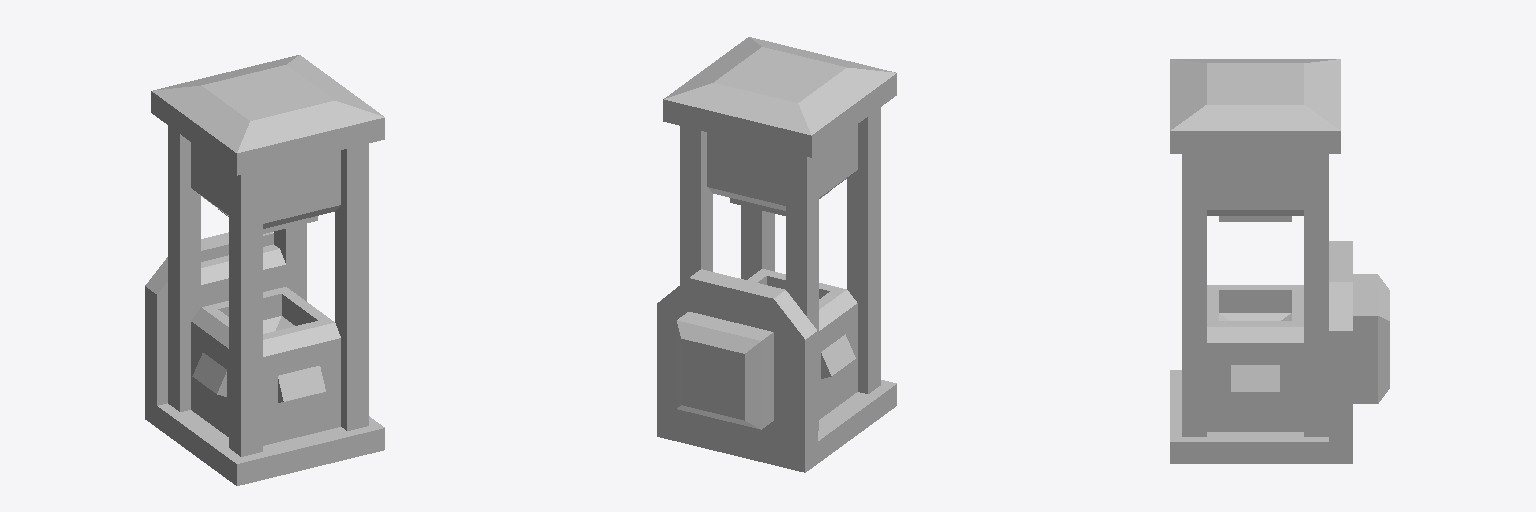
The model's file is actuator_earth_inventory.obj.
3 views of the same model, side by side, from view 1: azimuth 30°, elevation 25°; view 2: azimuth 150°, elevation 25°; view 3: azimuth 270°, elevation 25° (orthographic).
Visible parts, largest first — view 1: QUAKE_REFINERY_BODY_Cube.021; view 2: QUAKE_REFINERY_BODY_Cube.021; view 3: QUAKE_REFINERY_BODY_Cube.021.
Boxes of the visible parts, x1,y1,x2,y2 form: QUAKE_REFINERY_BODY_Cube.021: [145, 55, 384, 485]; QUAKE_REFINERY_BODY_Cube.021: [657, 37, 896, 472]; QUAKE_REFINERY_BODY_Cube.021: [1170, 59, 1389, 463].
Bounding box in the file's own units: 0.875 × 1.94 × 1.12.